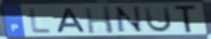A: (56, 7, 88, 34)
H: (83, 5, 116, 34)
L: (28, 7, 52, 35)
N: (113, 6, 146, 35)
T: (174, 4, 199, 34)
U: (142, 5, 174, 34)
